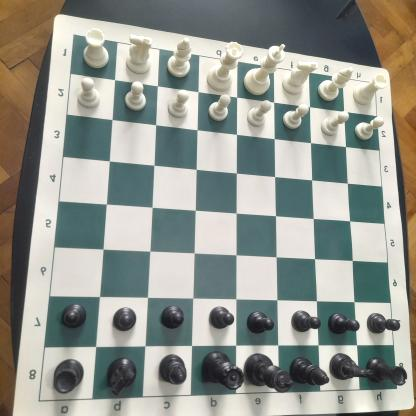black-bishop: (287, 353, 331, 388), (157, 352, 188, 386)
black-king: (244, 353, 294, 394)
black-knight: (328, 349, 376, 383), (103, 356, 139, 396)
black-pawn: (366, 310, 402, 337), (245, 308, 276, 337), (59, 303, 87, 331), (326, 312, 360, 335), (290, 310, 322, 334), (112, 306, 138, 333), (161, 304, 186, 332), (209, 305, 235, 331)
black-queen: (198, 349, 245, 392)
black-rook: (364, 355, 409, 386), (51, 357, 84, 395)
white-bishop: (316, 66, 354, 103), (166, 37, 193, 79)
white-king: (242, 43, 287, 96)
white-knight: (122, 33, 156, 75), (281, 60, 318, 96)
white-pawn: (75, 76, 102, 110), (354, 115, 386, 142), (320, 110, 350, 137), (282, 102, 310, 130), (124, 80, 148, 112), (206, 94, 232, 122), (166, 89, 191, 118), (248, 98, 272, 127)
white-queen: (204, 40, 244, 92)
white-rook: (80, 26, 112, 68), (351, 73, 389, 106)
